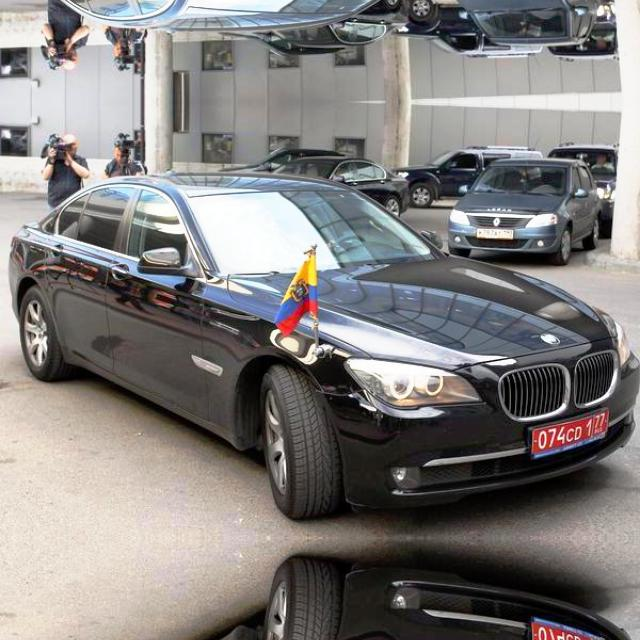diplomatic: (528, 402, 610, 462), (527, 612, 610, 640)
